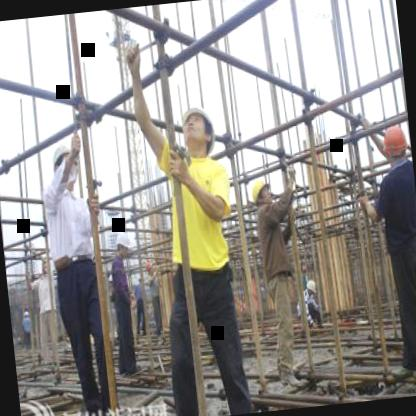helmet: (178, 100, 220, 160), (47, 140, 80, 188), (376, 124, 412, 164), (247, 176, 274, 204), (112, 228, 132, 260), (302, 273, 317, 298)
